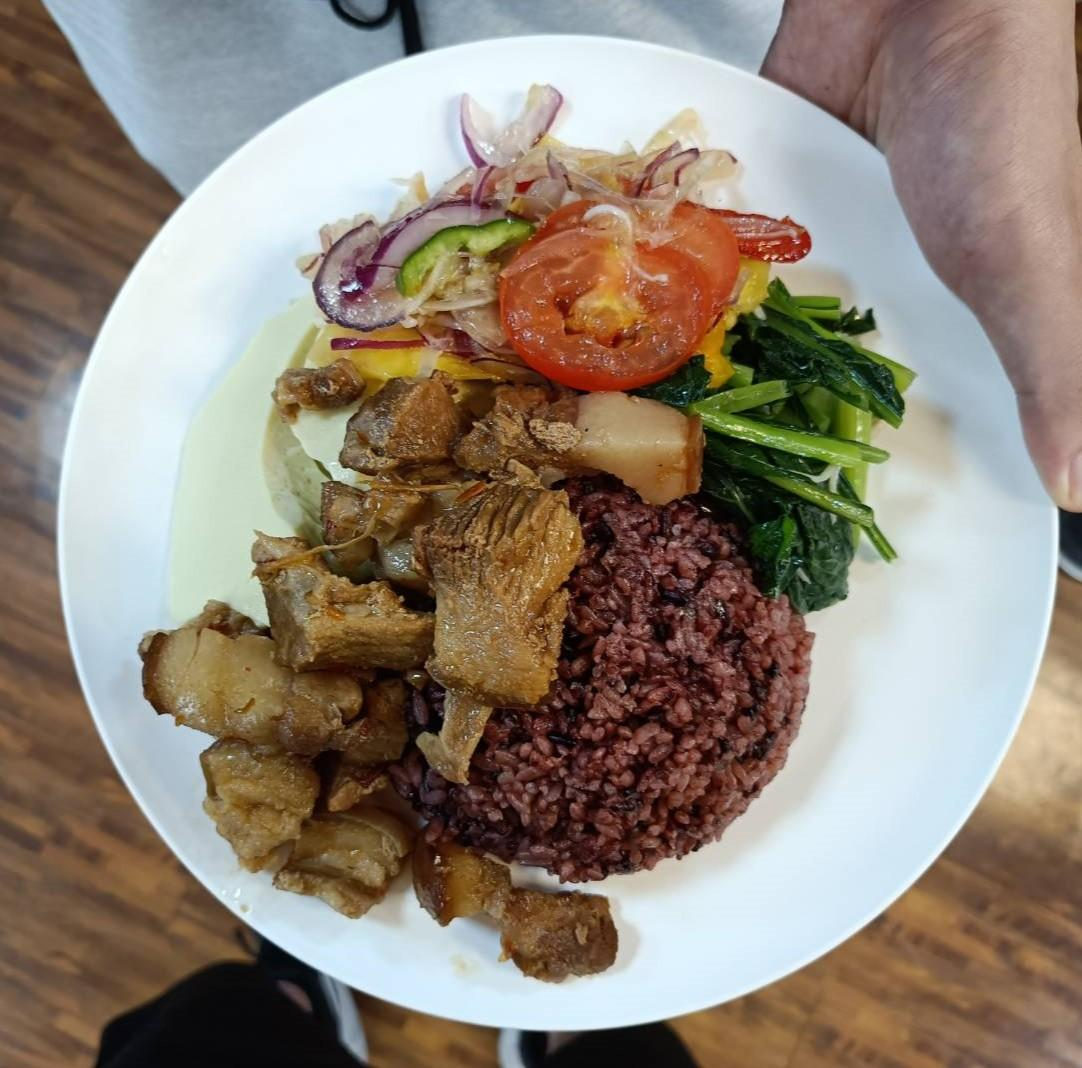big fried chicken leg: (46, 38, 1068, 1041)
braised fish: (476, 488, 805, 881)
braised fish fillet: (320, 116, 800, 382), (161, 288, 398, 613), (710, 286, 913, 605)
braised pork: (143, 389, 702, 989)
